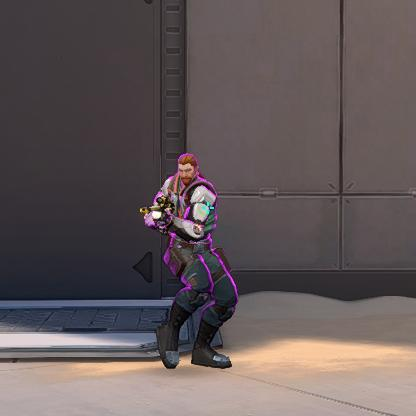enemyBody: (168, 183, 207, 240)
enemyHead: (179, 160, 195, 180)
